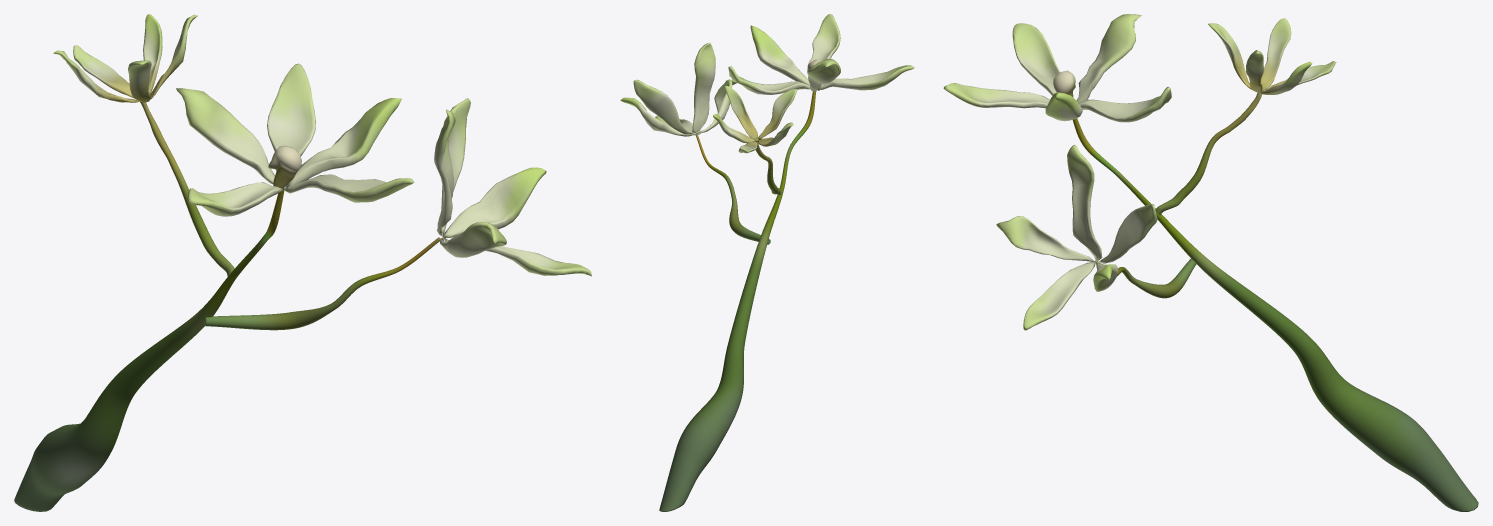
3 renders of one model, left to right at view 1: azimuth 30°, elevation 25°; view 2: azimuth 150°, elevation 25°; view 3: azimuth 270°, elevation 25°, orthographic. The views are drawn at different scales.
Parts seen in each view (by area): view 1: LOD 0_6708565968084579216_bb9398364d468ec489d5e3c54dd32286; view 2: LOD 0_6708565968084579216_bb9398364d468ec489d5e3c54dd32286; view 3: LOD 0_6708565968084579216_bb9398364d468ec489d5e3c54dd32286.
Boxes of the visible parts, bbox=[...] form: LOD 0_6708565968084579216_bb9398364d468ec489d5e3c54dd32286: bbox=[14, 14, 591, 511]; LOD 0_6708565968084579216_bb9398364d468ec489d5e3c54dd32286: bbox=[620, 14, 914, 511]; LOD 0_6708565968084579216_bb9398364d468ec489d5e3c54dd32286: bbox=[943, 14, 1478, 511].
Size of the model in its own units: 7.96 by 10.64 by 10.92.
